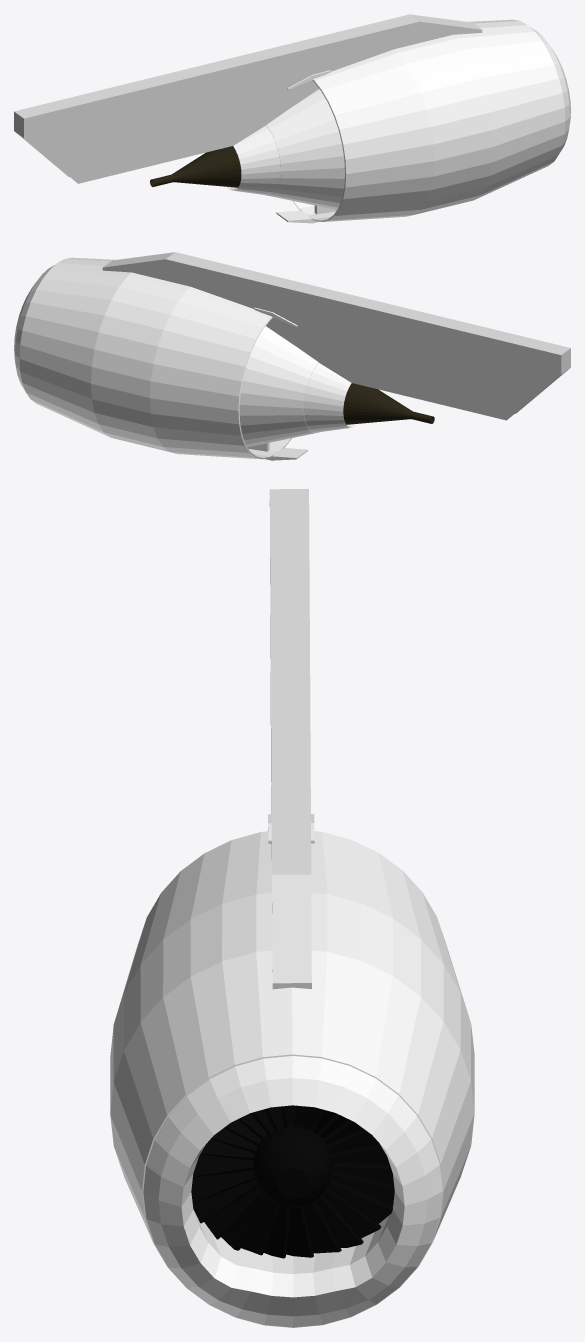
3 renders of one model, top to bottom at view 1: azimuth 30°, elevation 25°; view 2: azimuth 150°, elevation 25°; view 3: azimuth 270°, elevation 25°, orthographic. The views are drawn at different scales.
Visible parts, largest first — view 1: 円柱, 立方体.003, 円柱.004, 円柱.005, 円柱.006, 円柱.003, 立方体.001; view 2: 円柱, 立方体.003, 円柱.004, 円柱.005, 円柱.006, 円柱.003, 立方体.001; view 3: 円柱, 円柱.003, 円柱.007, 立方体.003.
Part boxes in pixels (bbox=[...]): 円柱: bbox=[293, 19, 565, 221]; 立方体.003: bbox=[14, 14, 482, 183]; 円柱.004: bbox=[265, 89, 344, 209]; 円柱.005: bbox=[226, 125, 280, 195]; 円柱.006: bbox=[150, 146, 241, 187]; 円柱.003: bbox=[530, 27, 570, 153]; 立方体.001: bbox=[276, 210, 319, 223]; 円柱: bbox=[19, 257, 291, 459]; 立方体.003: bbox=[102, 252, 570, 420]; 円柱.004: bbox=[239, 326, 318, 446]; 円柱.005: bbox=[304, 363, 358, 432]; 円柱.006: bbox=[343, 383, 434, 424]; 円柱.003: bbox=[14, 265, 54, 390]; 立方体.001: bbox=[265, 448, 307, 460]; 円柱: bbox=[110, 831, 474, 1327]; 円柱.003: bbox=[143, 1056, 442, 1327]; 円柱.007: bbox=[191, 1105, 394, 1258]; 立方体.003: bbox=[269, 489, 311, 989].
Bounding box in the file's own units: 8.04 × 2.72 × 2.42.
